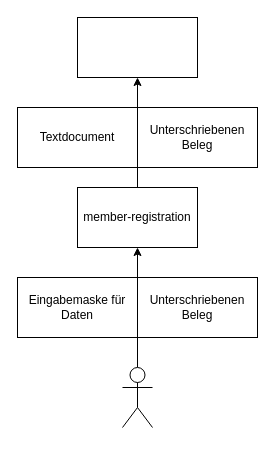
The diagram is 275 pixels wide and 466 high, and some of its shapes have lost their labels. The centre of each missing label's shape, as x and y in pixels:
Actor: pixel 137 397
file-share: pixel 137 47
